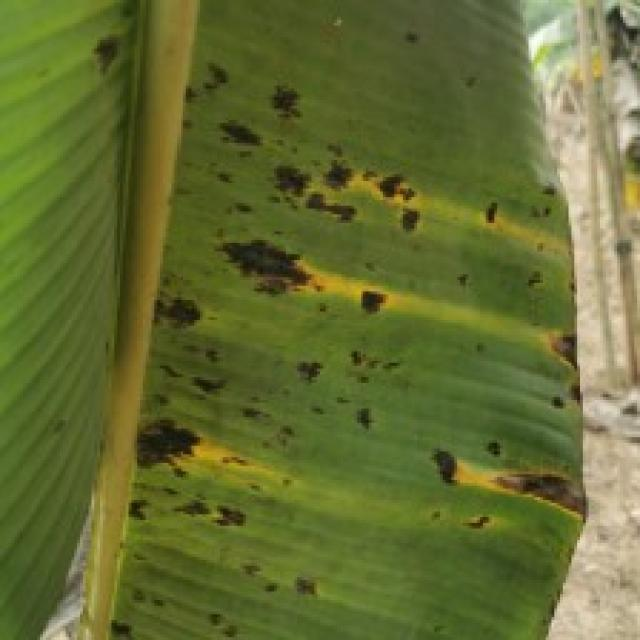Downey_mildrew: (73, 0, 590, 640)
